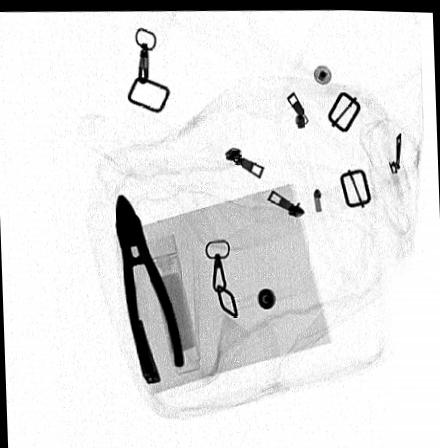Pliers: (113, 190, 184, 384)
